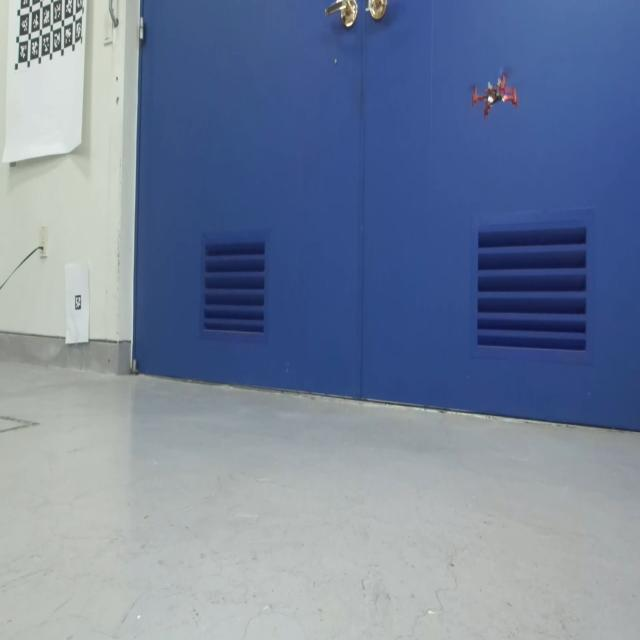crazyflie: (470, 67, 520, 121)
